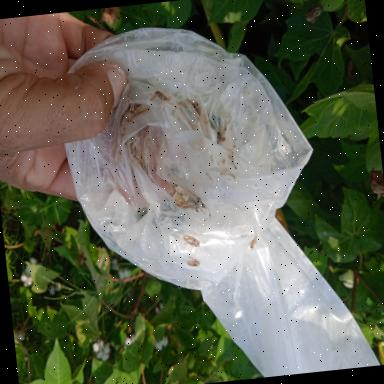abw: (166, 180, 212, 226)
